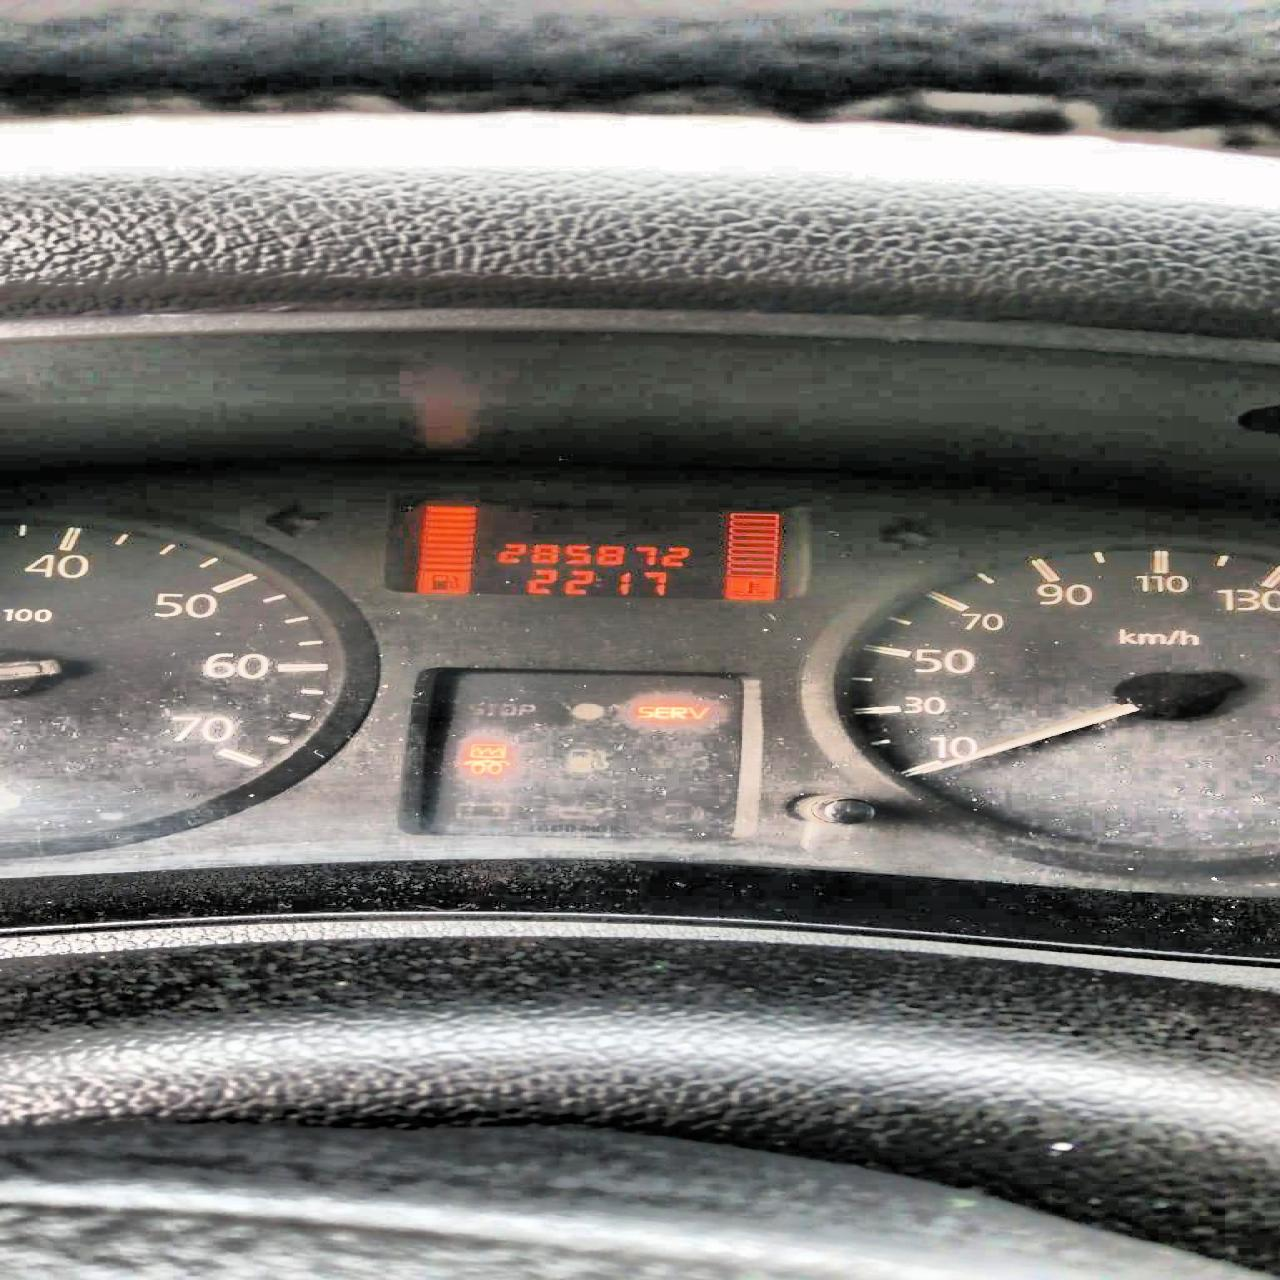1: (618, 571, 631, 595)
2: (563, 568, 594, 594), (526, 568, 556, 593), (496, 544, 526, 563), (661, 547, 687, 566)
5: (563, 545, 590, 564)
7: (642, 571, 666, 595), (634, 546, 654, 564)
8: (594, 545, 622, 565), (530, 544, 558, 563)
odometer: (401, 497, 791, 601)
